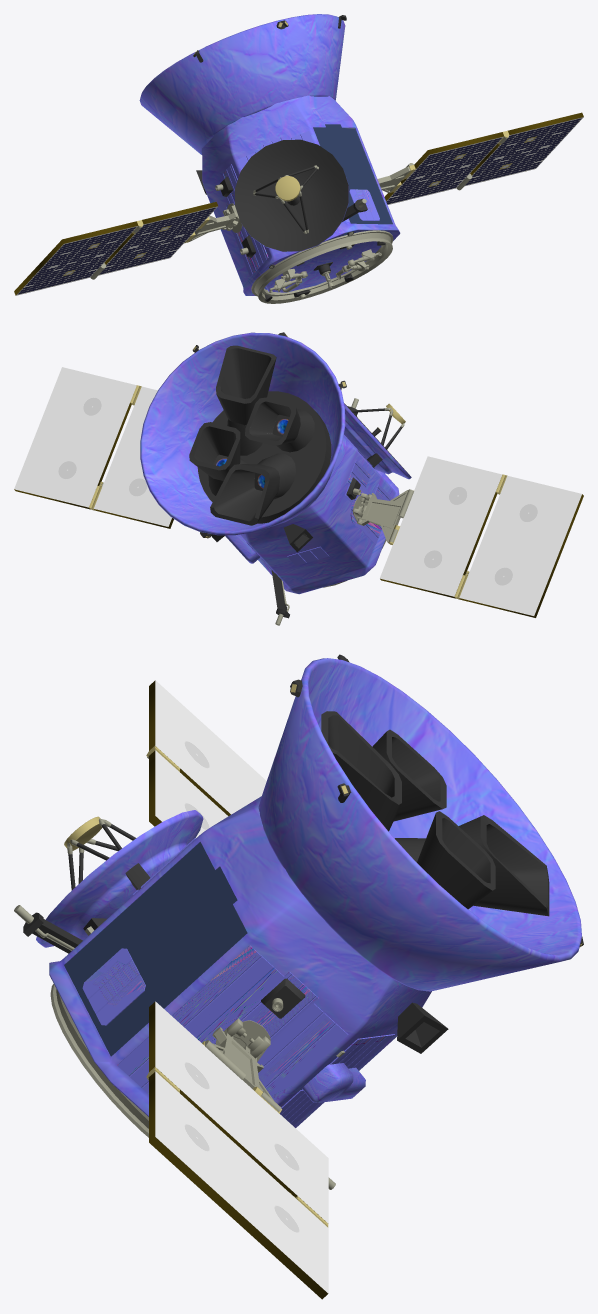
File: tess.glb
The picture shows the model from 3 angles, top to bottom: view 1: azimuth 30°, elevation 25°; view 2: azimuth 150°, elevation 25°; view 3: azimuth 270°, elevation 25°; orthographic projection. The views are drawn at different scales.
Visible parts, largest first — view 1: instruments, BUS, reflectors; view 2: instruments, BUS, reflectors; view 3: BUS, instruments, reflectors.
Boxes of the visible parts, x1=… form: instruments: x1=14, y1=15, x2=583, y2=303; BUS: x1=139, y1=14, x2=400, y2=295; reflectors: x1=222, y1=131, x2=379, y2=276; instruments: x1=14, y1=332, x2=583, y2=625; BUS: x1=140, y1=332, x2=411, y2=594; reflectors: x1=239, y1=435, x2=392, y2=572; BUS: x1=36, y1=658, x2=581, y2=1127; instruments: x1=14, y1=654, x2=583, y2=1299; reflectors: x1=82, y1=838, x2=394, y2=1125.
Bounding box in the file's own units: 100 × 52.32 × 52.73.
5 materials, 3 textured.
